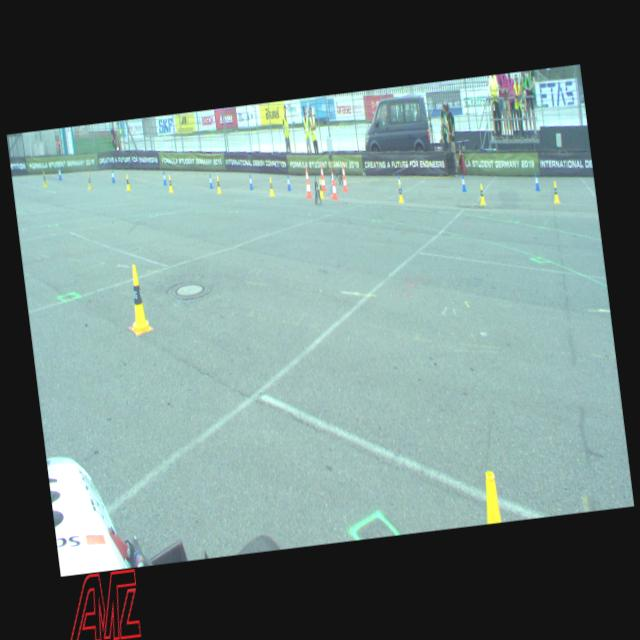blue_cone: (533, 172, 540, 190), (461, 173, 466, 191), (397, 174, 402, 192), (248, 173, 253, 190), (286, 174, 291, 190), (56, 167, 62, 180), (110, 169, 115, 182), (329, 175, 333, 191), (208, 174, 212, 188), (162, 171, 166, 185)
large_orange_cone: (302, 166, 312, 198), (328, 168, 338, 200), (339, 164, 348, 192), (318, 164, 326, 190)
yellow_cone: (124, 264, 152, 334), (481, 470, 502, 523), (550, 180, 561, 204), (478, 183, 487, 205), (396, 182, 404, 202), (268, 176, 274, 196), (318, 178, 324, 198), (215, 175, 221, 193), (166, 175, 172, 192), (41, 170, 47, 186), (124, 174, 130, 190), (86, 173, 92, 189)
